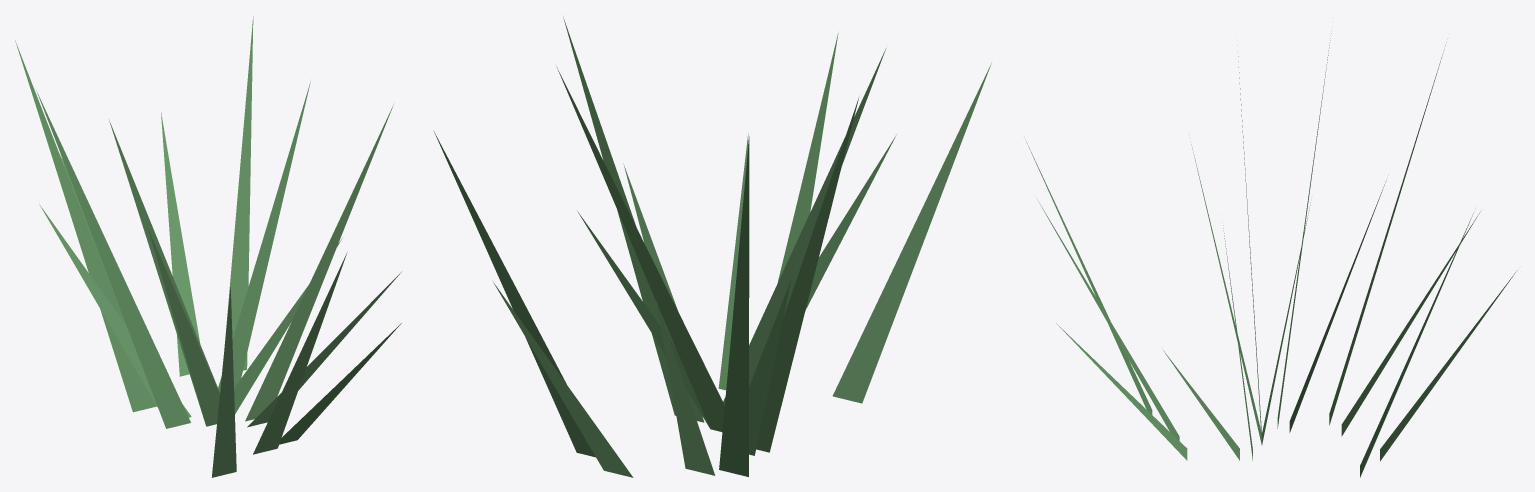
Rendered from nature_tall_grass.glb.
3 renders of one model, left to right at view 1: azimuth 30°, elevation 25°; view 2: azimuth 150°, elevation 25°; view 3: azimuth 270°, elevation 25°, orthographic. The views are drawn at different scales.
Visible parts, largest first — view 1: nature_tall_grass; view 2: nature_tall_grass; view 3: nature_tall_grass.
Part boxes in pixels (x1,y1,x2,y2): nature_tall_grass: (15,16,401,477); nature_tall_grass: (434,16,991,477); nature_tall_grass: (1025,33,1517,477).
Size of the model in its own units: 0.6084 by 0.66 by 0.8473.
